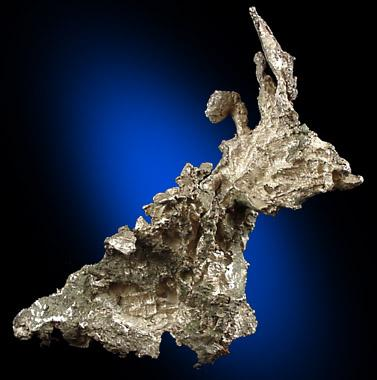silver: (12, 7, 364, 367)
